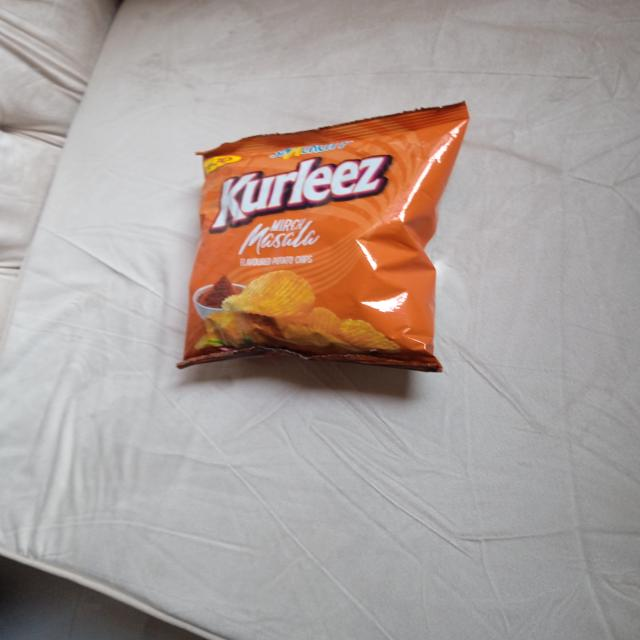Plastic: (180, 103, 472, 379)
